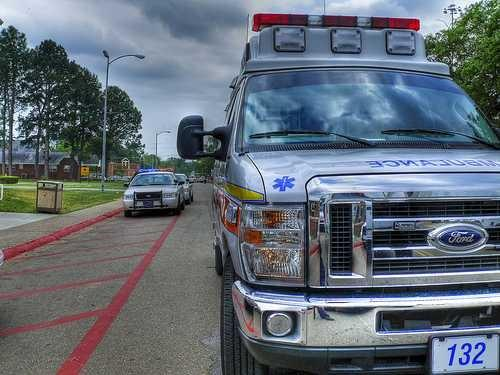car: (176, 11, 499, 374)
